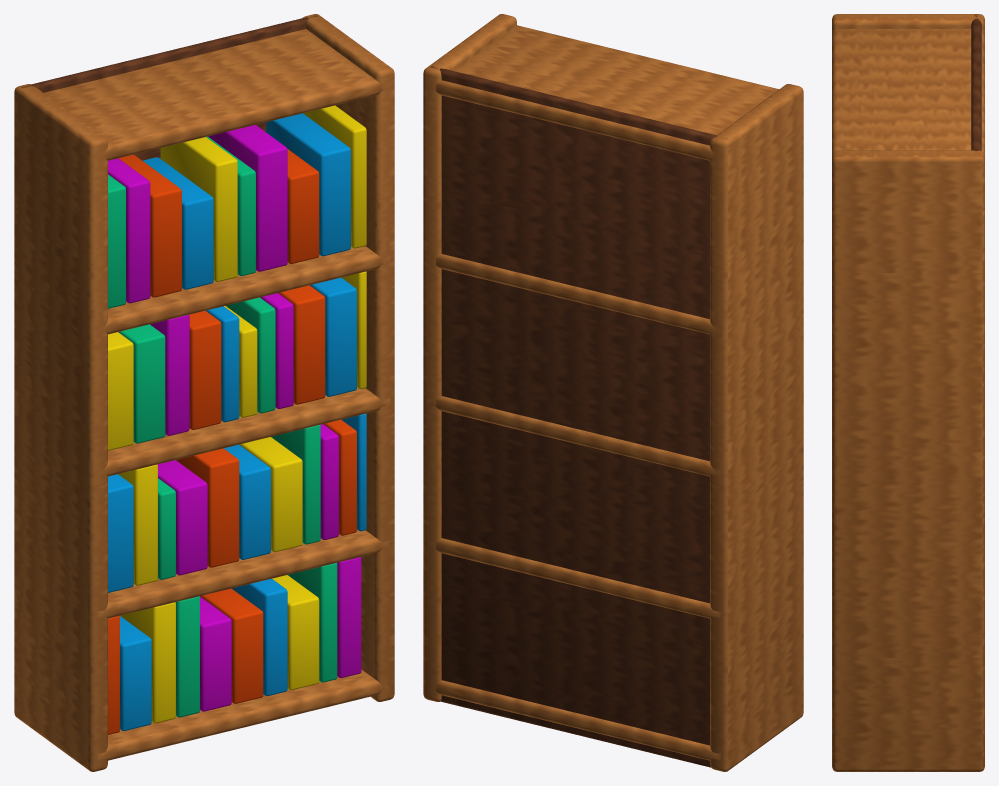
Rendered from bookcase_tall.glb.
The picture shows the model from 3 angles, left to right: view 1: azimuth 30°, elevation 25°; view 2: azimuth 150°, elevation 25°; view 3: azimuth 270°, elevation 25°; orthographic projection. The views are drawn at different scales.
Parts seen in each view (by area): view 1: side, board.004, side.001, board.001, board, board.002, board.003, book.040, book.038, book.036, book.014, book.034 (+38 smaller); view 2: back, side, board.004, side.001, board.002, board.001, board.003, board; view 3: side.001, board.004, side, back.
Boxes of the visible parts, x1=… form: side: x1=14, y1=84, x2=107, y2=771; board.004: x1=44, y1=29, x2=389, y2=160; side.001: x1=303, y1=14, x2=394, y2=701; board.001: x1=97, y1=530, x2=389, y2=618; board: x1=97, y1=669, x2=387, y2=760; board.002: x1=97, y1=388, x2=389, y2=476; board.003: x1=97, y1=246, x2=389, y2=334; book.040: x1=266, y1=113, x2=350, y2=256; book.038: x1=208, y1=125, x2=287, y2=271; book.036: x1=160, y1=137, x2=237, y2=281; book.014: x1=176, y1=448, x2=239, y2=567; book.034: x1=119, y1=154, x2=181, y2=297; back: x1=430, y1=66, x2=726, y2=767; side: x1=710, y1=84, x2=803, y2=771; board.004: x1=428, y1=25, x2=778, y2=160; side.001: x1=423, y1=14, x2=516, y2=701; board.002: x1=428, y1=396, x2=720, y2=476; board.001: x1=429, y1=538, x2=720, y2=618; board.003: x1=428, y1=254, x2=720, y2=334; board: x1=429, y1=680, x2=720, y2=760; side.001: x1=832, y1=150, x2=984, y2=771; board.004: x1=832, y1=29, x2=984, y2=154; side: x1=832, y1=14, x2=984, y2=30; back: x1=971, y1=14, x2=981, y2=150.
Bounding box in the file's own units: 0.405 × 0.8 × 0.18.
Materials: 7 (2 with a texture image).
